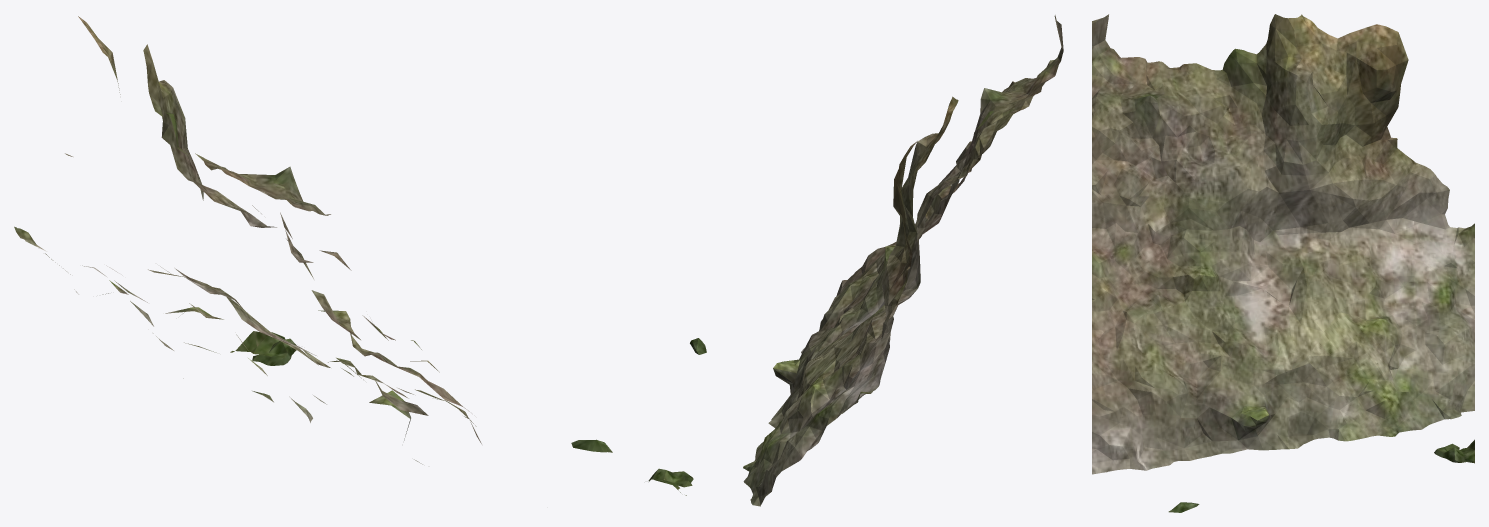
3 views of the same model, side by side, from view 1: azimuth 30°, elevation 25°; view 2: azimuth 150°, elevation 25°; view 3: azimuth 270°, elevation 25° (orthographic). The views are drawn at different scales.
Size of the model in its own units: 5.54 by 5.9 by 5.9.
Materials: 3 (3 with a texture image).
